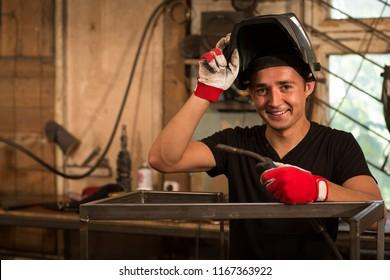gloves: (193, 34, 240, 104), (259, 160, 329, 203)
